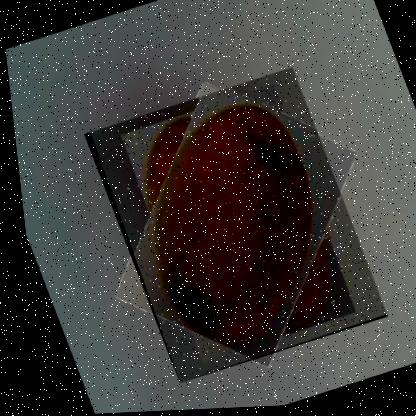mango: (75, 66, 386, 387)
